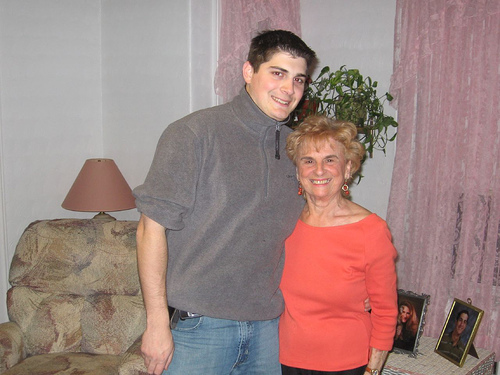without_mask: (245, 38, 308, 120), (289, 132, 353, 198)
